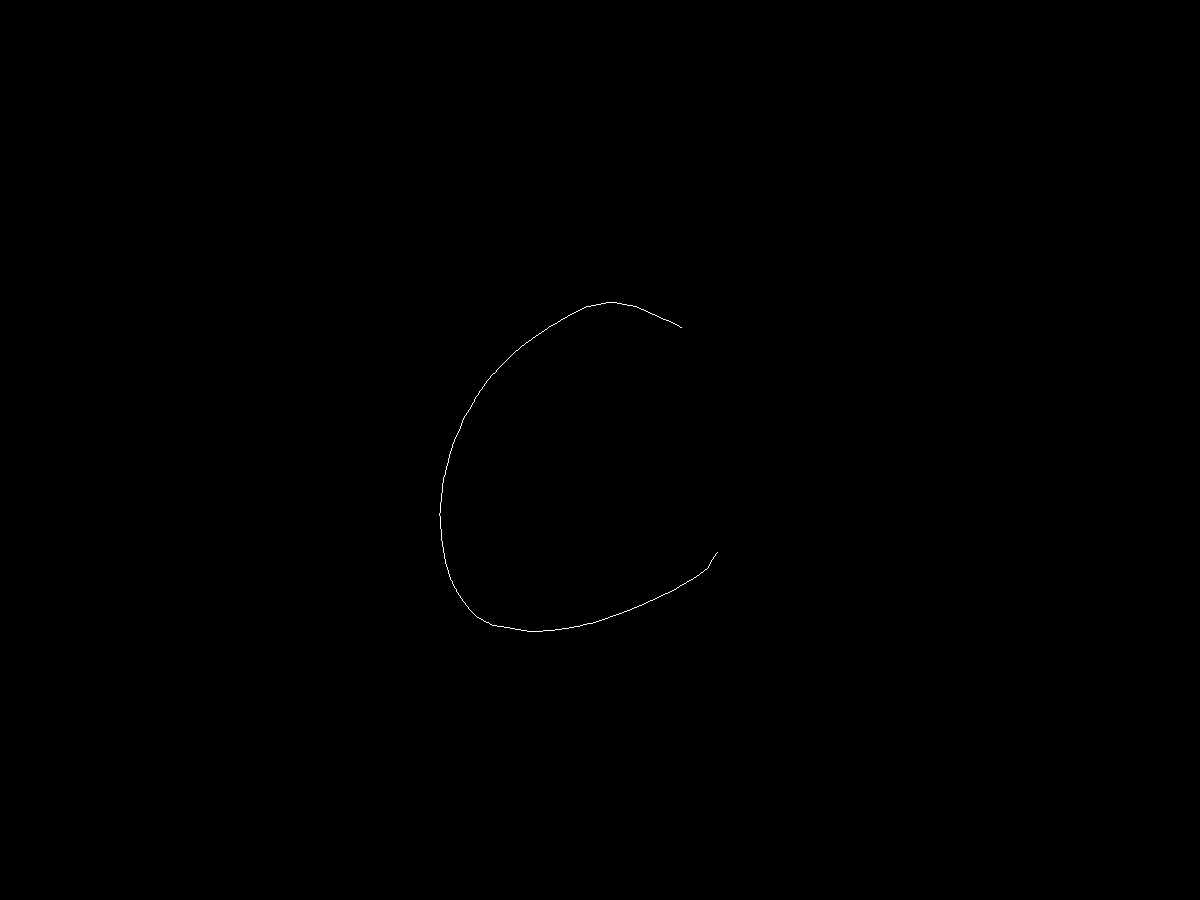dian1: (671, 318, 693, 337)
dian2: (710, 546, 728, 562)
